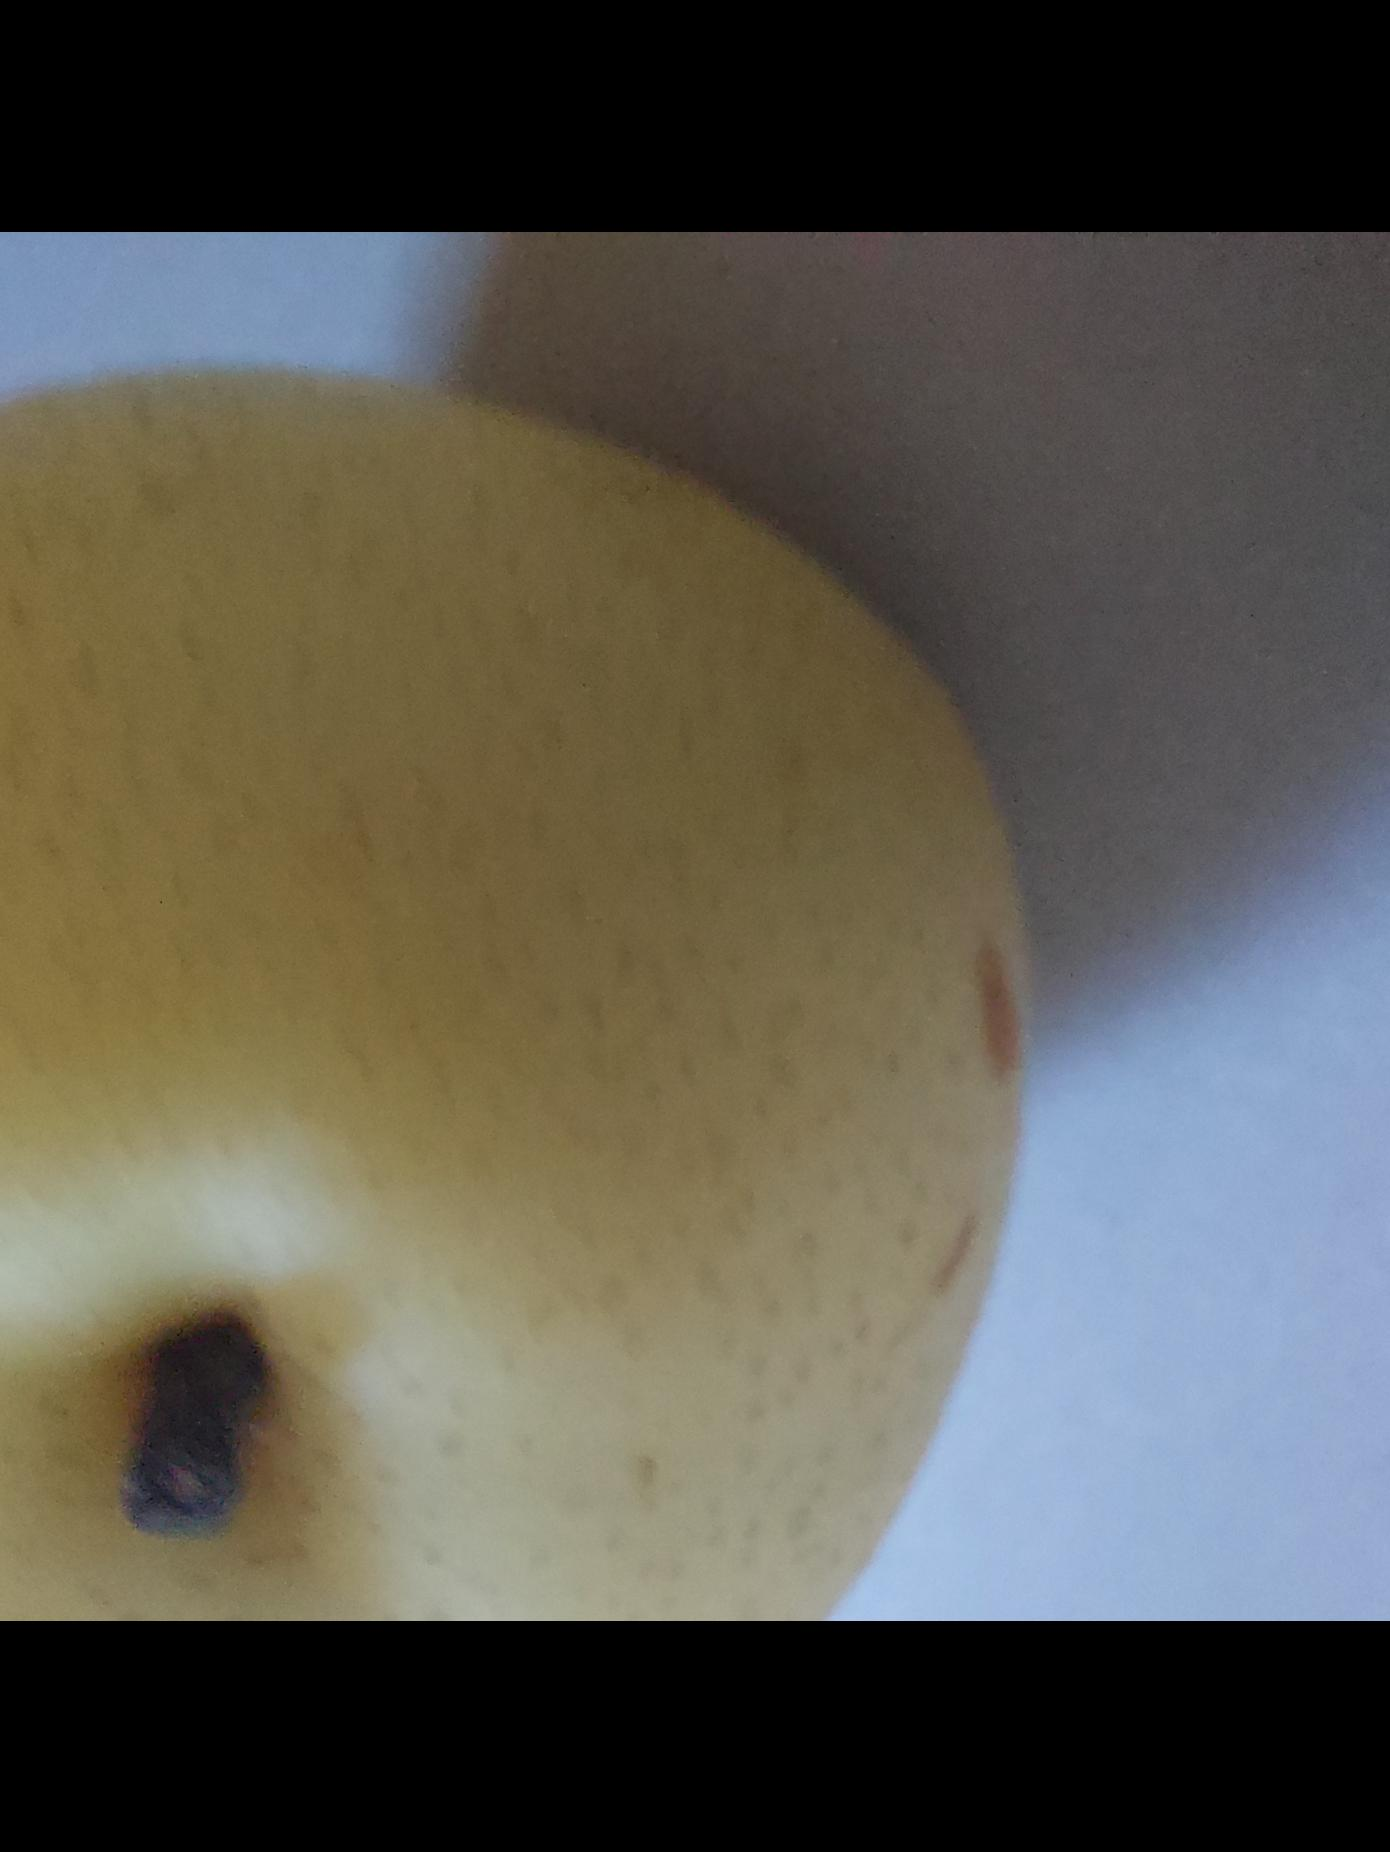Good Pear: (0, 362, 1060, 1621)
